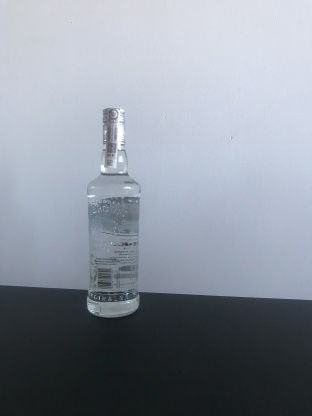nakretka: (100, 104, 127, 148)
